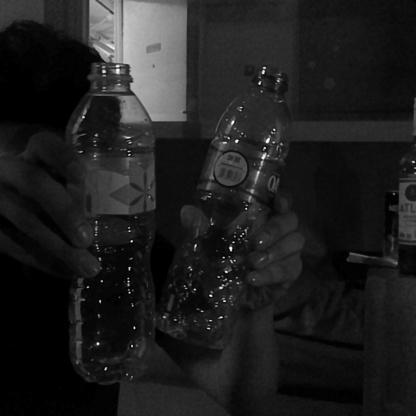plastic_bottles: (154, 69, 293, 352), (64, 62, 150, 386)
